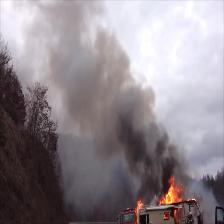fire: (164, 185, 179, 200)
smoke: (79, 69, 139, 116), (124, 124, 166, 178)
